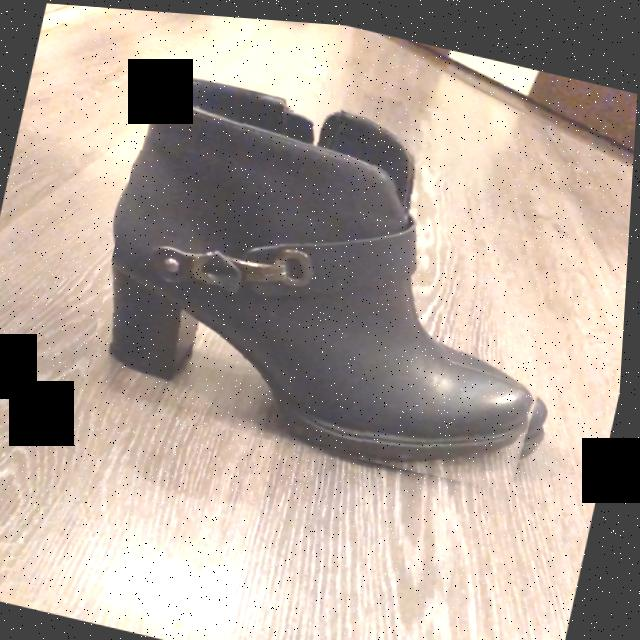shoe: (115, 76, 541, 460)
